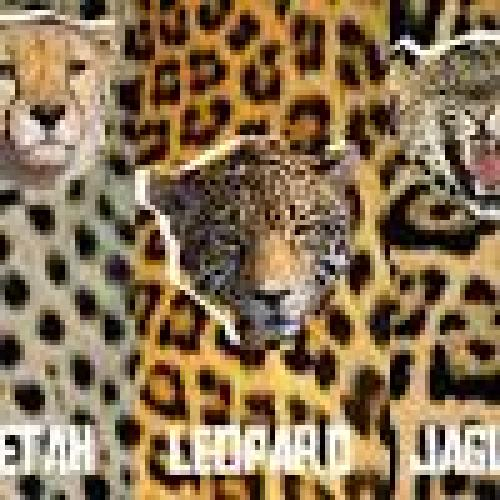cheetah-endangered: (0, 7, 114, 500)
